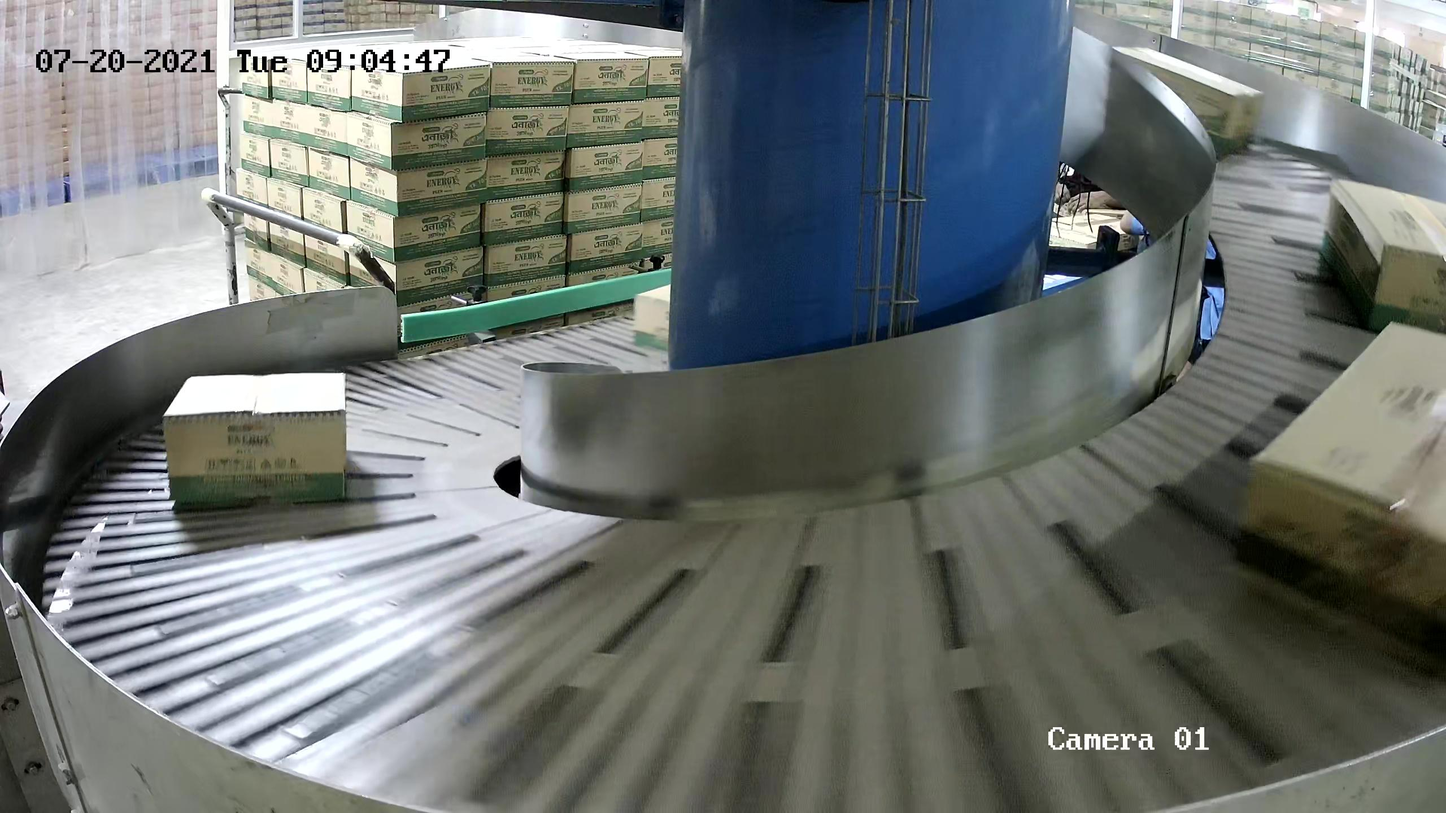Box: (1236, 316, 1446, 683), (161, 369, 348, 505), (1318, 176, 1446, 338), (1109, 45, 1265, 161), (633, 283, 671, 352)
